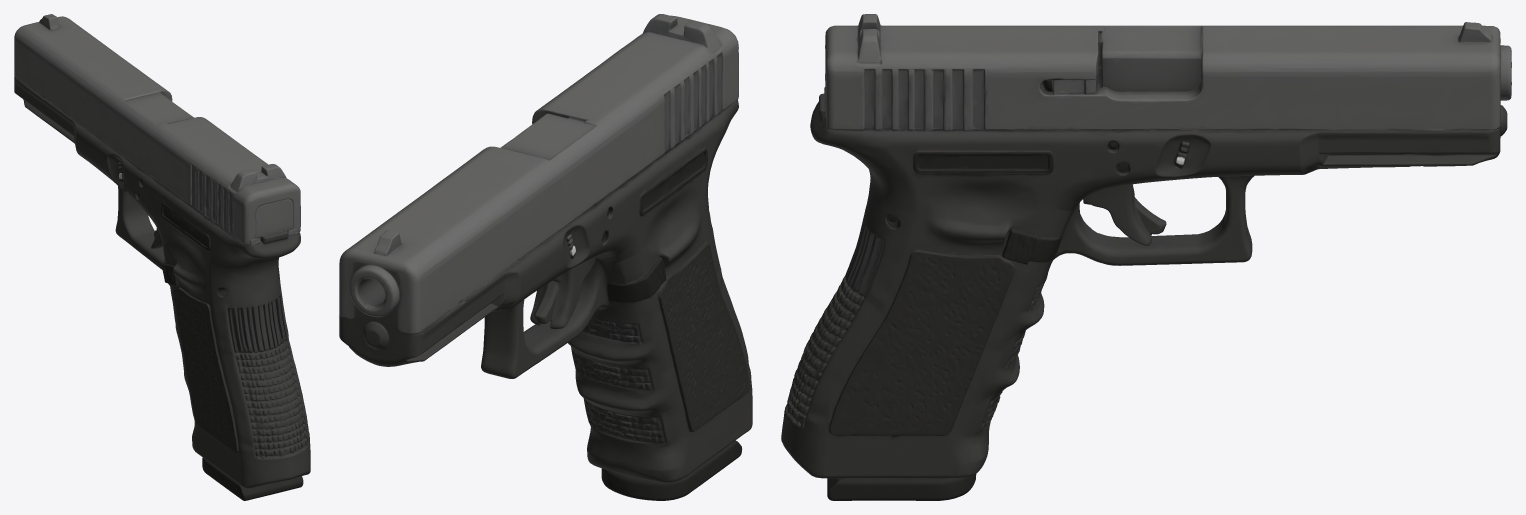
Rendered from w_P12-RN4B4BMN.glb.
The picture shows the model from 3 angles, left to right: view 1: azimuth 30°, elevation 25°; view 2: azimuth 150°, elevation 25°; view 3: azimuth 270°, elevation 25°; orthographic projection. The views are drawn at different scales.
Size of the model in its own units: 0.1704 by 0.655 by 0.95.
Materials: 1 (1 with a texture image).
